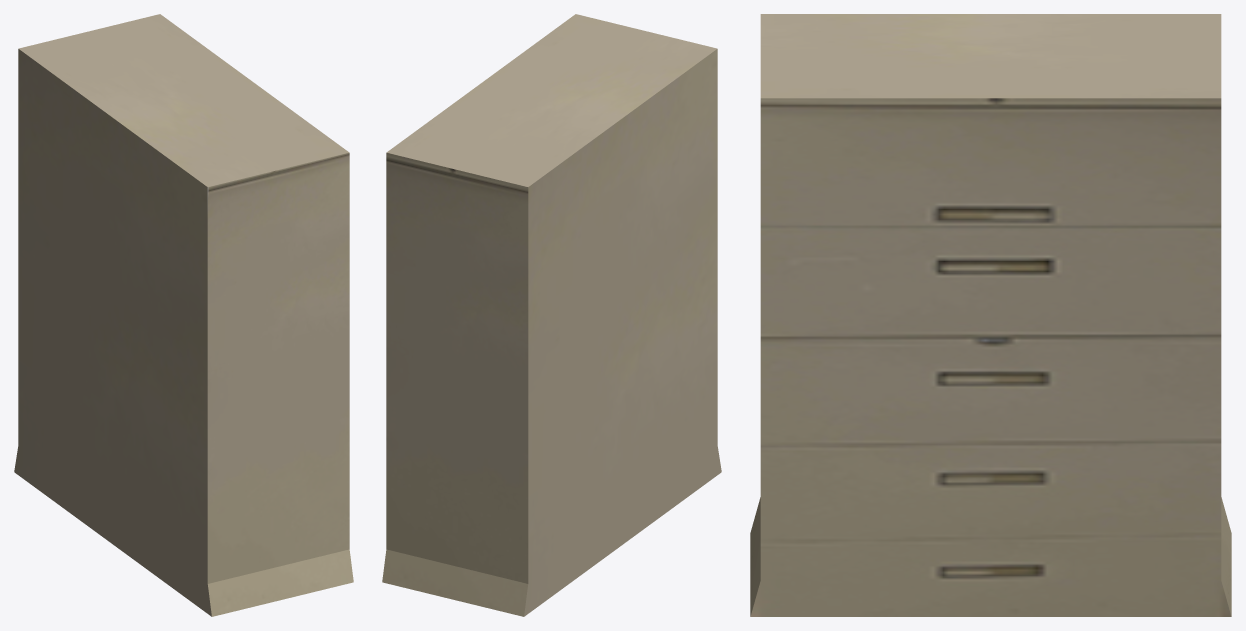
File: FileCabinet.fbx
3 views of the same model, side by side, from view 1: azimuth 30°, elevation 25°; view 2: azimuth 150°, elevation 25°; view 3: azimuth 270°, elevation 25° (orthographic). The views are drawn at different scales.
Visible parts, largest first — view 1: Cube.051; view 2: Cube.051; view 3: Cube.051.
Boxes of the visible parts, box(x1,y1,x2,y2) form: Cube.051: box(14, 14, 353, 616); Cube.051: box(382, 14, 721, 616); Cube.051: box(750, 14, 1231, 616).
Size of the model in its own units: 4.07 by 11.68 by 9.82.
